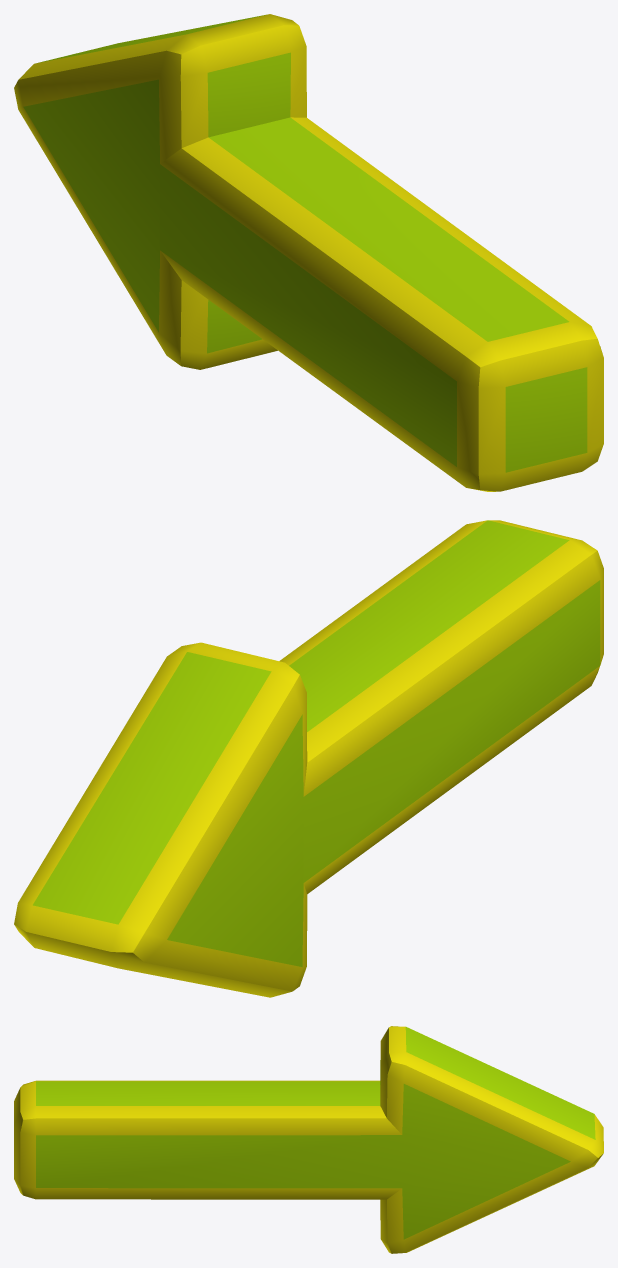
File: yazirushi.fbx
3 views of the same model, one above another, from view 1: azimuth 30°, elevation 25°; view 2: azimuth 150°, elevation 25°; view 3: azimuth 270°, elevation 25° (orthographic). The views are drawn at different scales.
Visible parts, largest first — view 1: yazirusi; view 2: yazirusi; view 3: yazirusi.
Part boxes in pixels (<box>): yazirusi: <box>14,14,603,491</box>; yazirusi: <box>14,520,603,997</box>; yazirusi: <box>14,1026,603,1253</box>.
Size of the model in its own units: 1 by 2.18 by 5.78.
